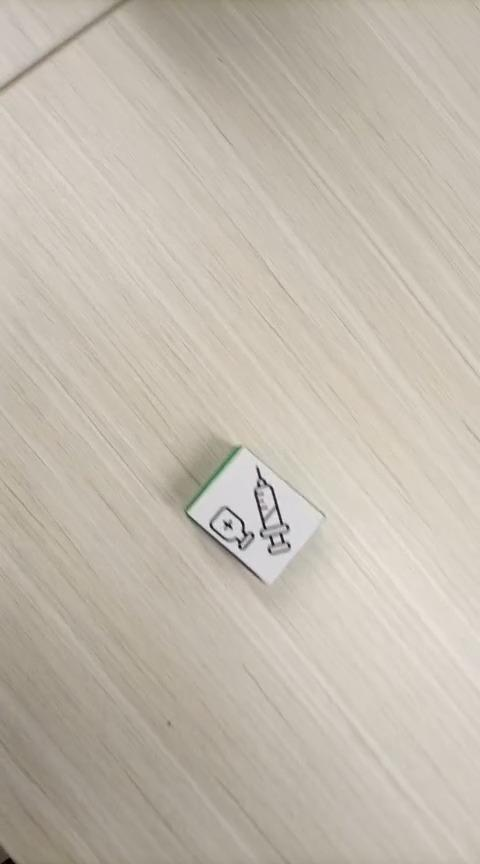antiseptic cream: (183, 443, 326, 585)
